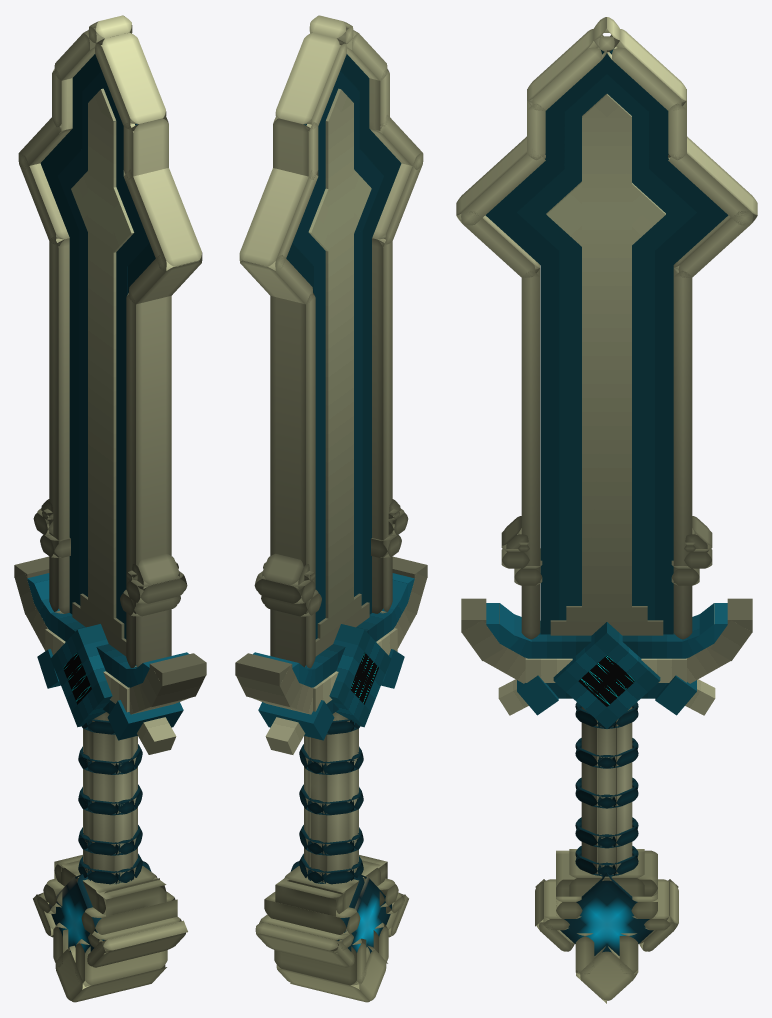
File: sculk_blade.obj
The picture shows the model from 3 angles, left to right: view 1: azimuth 30°, elevation 25°; view 2: azimuth 150°, elevation 25°; view 3: azimuth 270°, elevation 25°; orthographic projection.
Parts seen in each view (by area): view 1: cube; view 2: cube; view 3: cube.
Boxes of the visible parts, left/top/right/bottom form: cube: left=14, top=15, right=206, bottom=1002; cube: left=235, top=15, right=427, bottom=1002; cube: left=456, top=17, right=757, bottom=1003.
Bounding box in the file's own units: 0.0938 × 1.06 × 0.3008.
7 materials, 7 textured.
